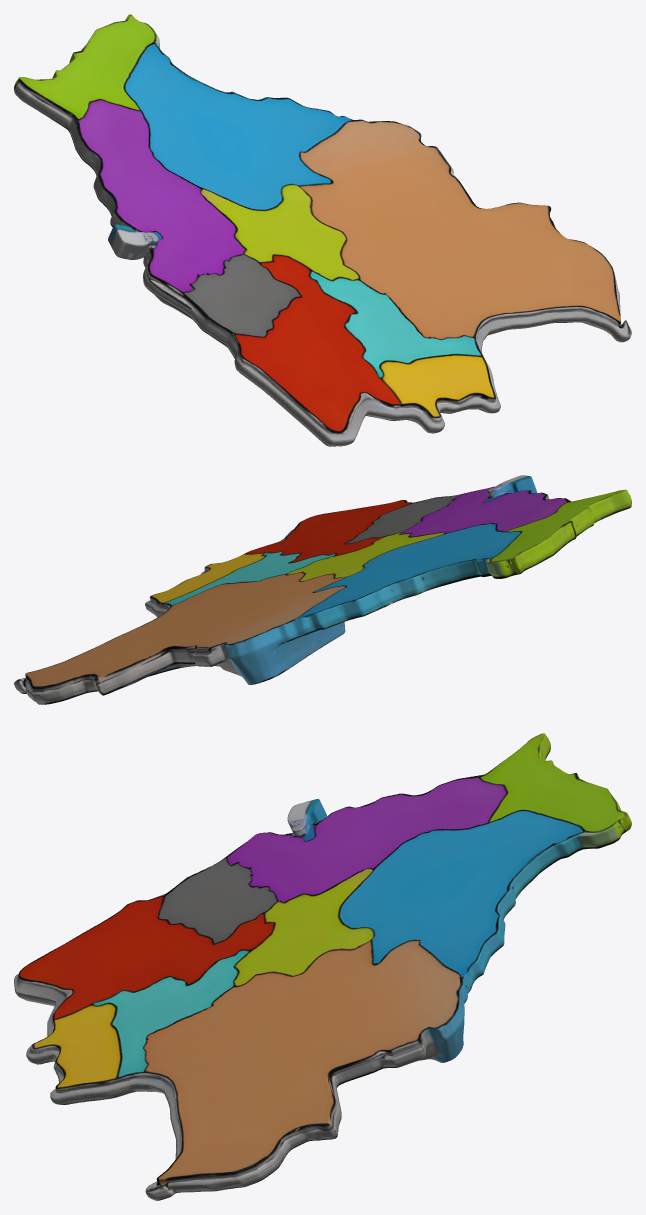
Rendered from mapa.glb.
3 renders of one model, top to bottom at view 1: azimuth 30°, elevation 25°; view 2: azimuth 210°, elevation 25°; view 3: azimuth 270°, elevation 25°, orthographic. The views are drawn at different scales.
Parts seen in each view (by area): view 1: tripo_node_46a0ebcd-9eb5-44df-a1de-f6b707268af7; view 2: tripo_node_46a0ebcd-9eb5-44df-a1de-f6b707268af7; view 3: tripo_node_46a0ebcd-9eb5-44df-a1de-f6b707268af7.
Boxes of the visible parts, left/top/right/bottom form: tripo_node_46a0ebcd-9eb5-44df-a1de-f6b707268af7: left=14, top=14, right=631, bottom=446; tripo_node_46a0ebcd-9eb5-44df-a1de-f6b707268af7: left=14, top=475, right=631, bottom=704; tripo_node_46a0ebcd-9eb5-44df-a1de-f6b707268af7: left=14, top=733, right=631, bottom=1200.
Bounding box in the file's own units: 0.8764 × 0.4172 × 0.9418.
1 material, 1 textured.
